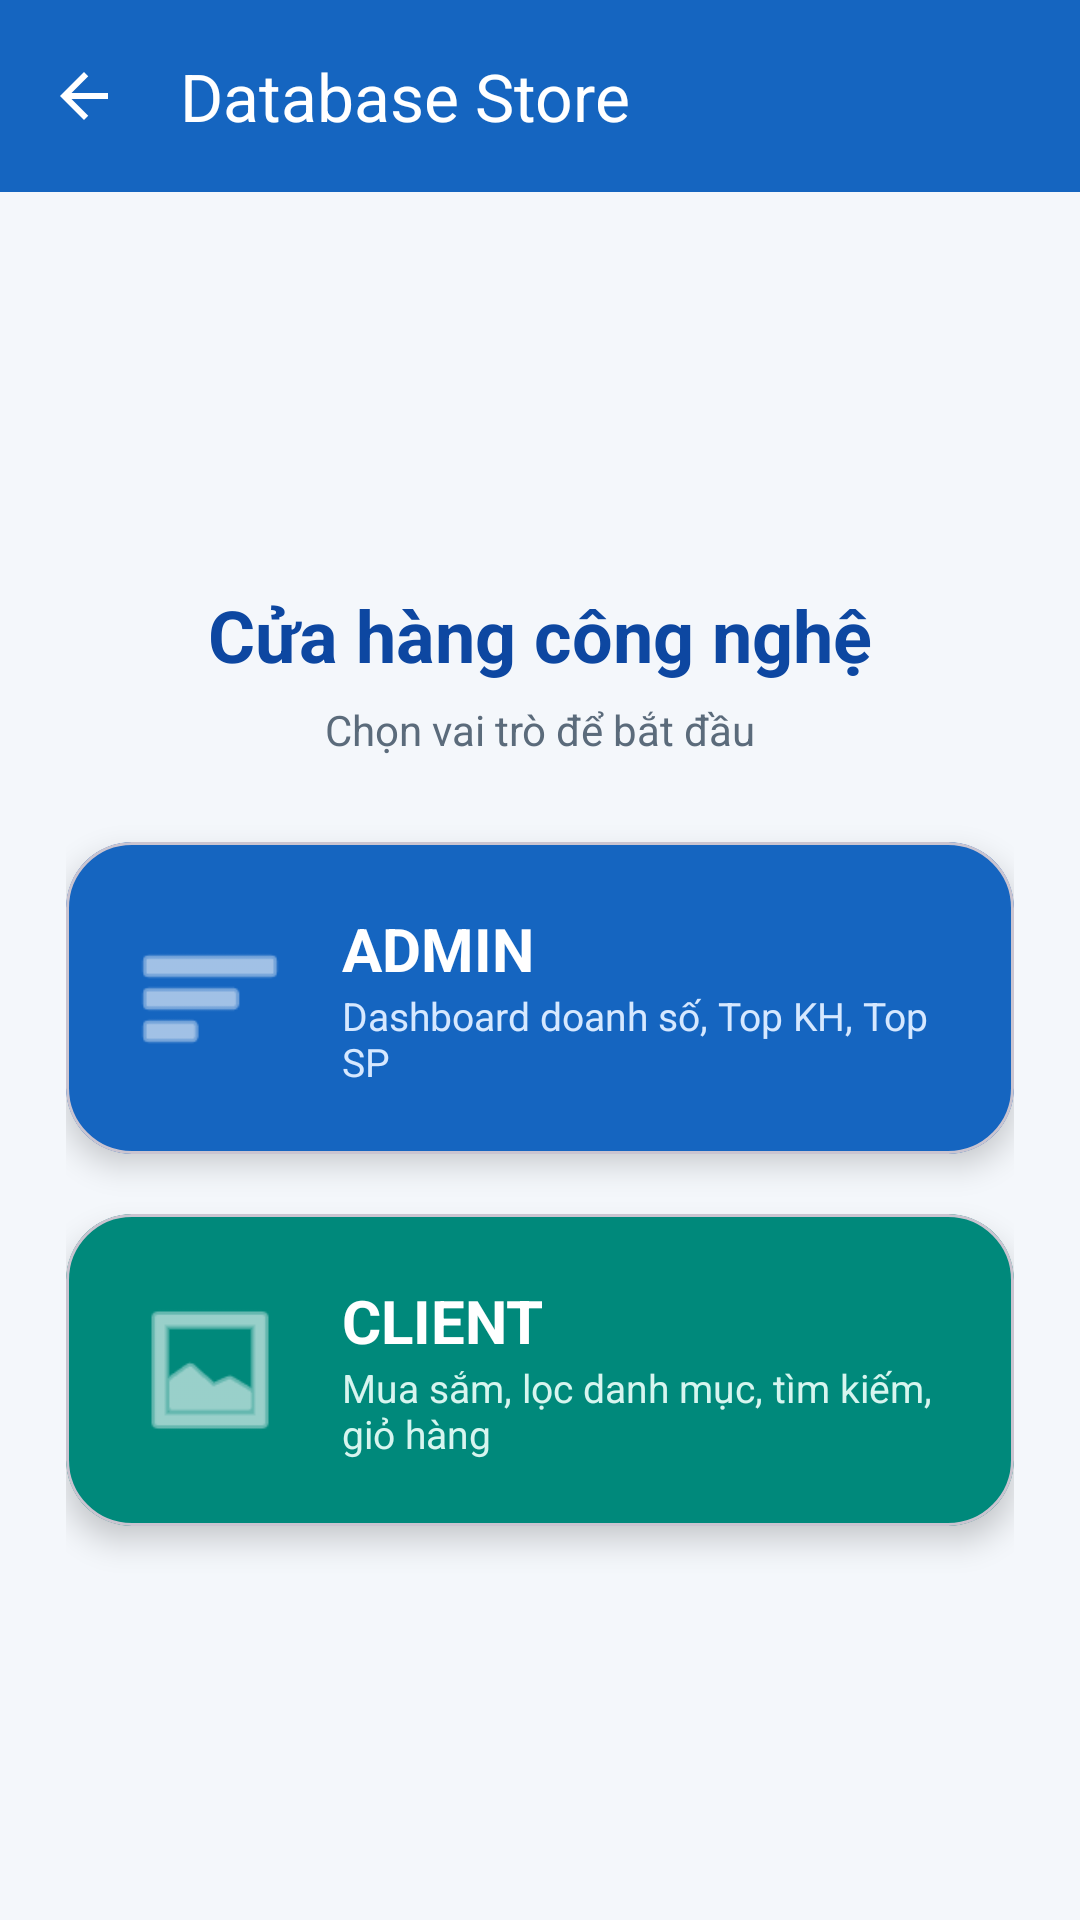

Screen size 1080 x 1920. Icon name, then its box in pixels as (x1, y1, x2, y2):
gallery: (151, 1311, 269, 1429)
sort by size: (143, 955, 277, 1043)
